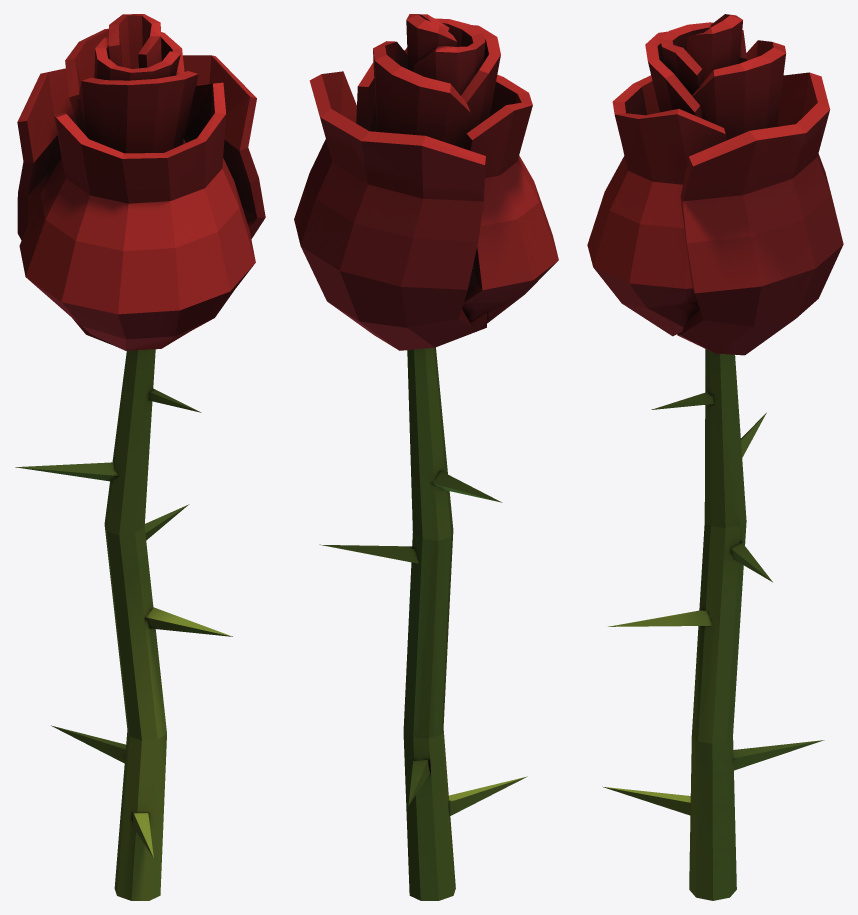
File: PUSHILIN_rose.gltf
The picture shows the model from 3 angles, left to right: view 1: azimuth 30°, elevation 25°; view 2: azimuth 150°, elevation 25°; view 3: azimuth 270°, elevation 25°; orthographic projection.
Parts seen in each view (by area): view 1: node-0; view 2: node-0; view 3: node-0.
Part boxes in pixels (box(x1,y1,x2,y2)): node-0: box(15, 14, 265, 900); node-0: box(294, 14, 558, 900); node-0: box(587, 14, 843, 900).
Bounding box in the file's own units: 0.6034 × 2.24 × 0.5936.
1 material, 1 textured.
